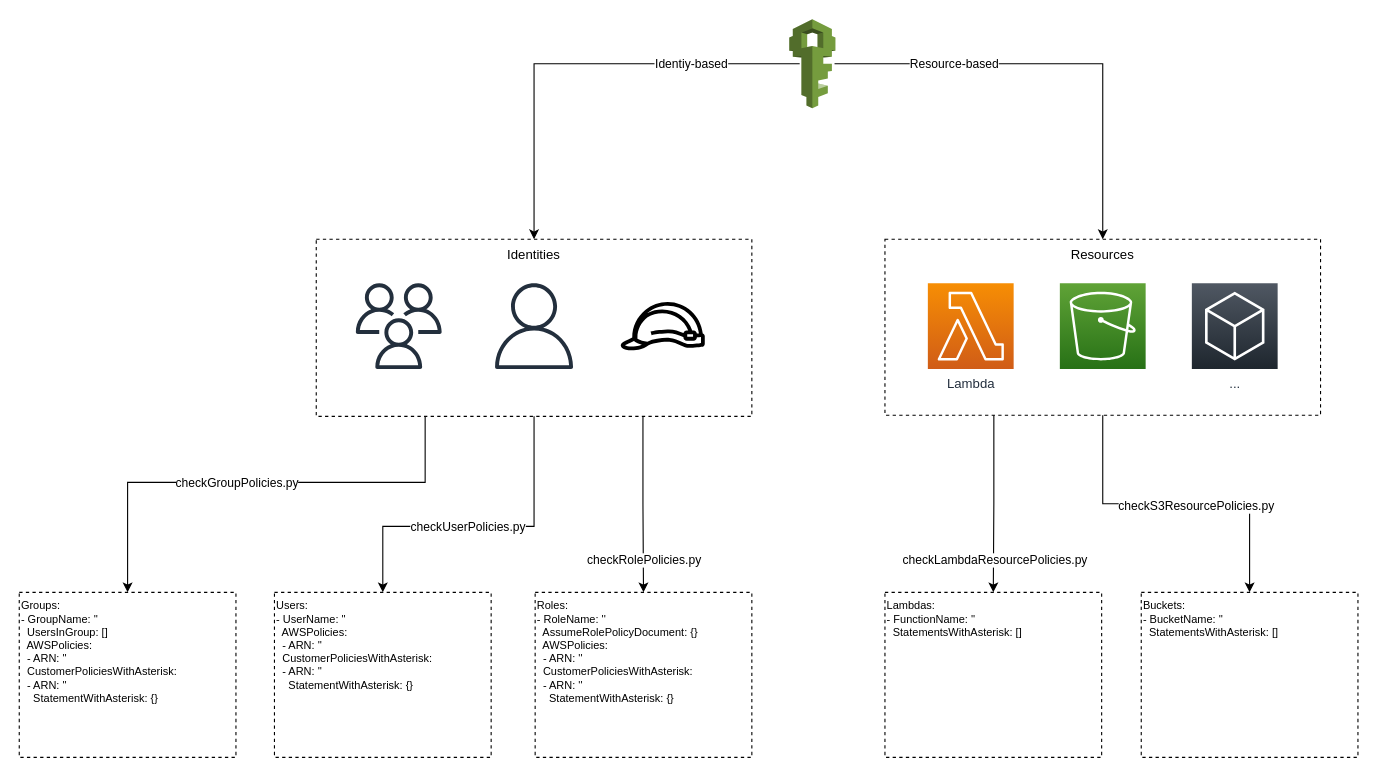
This 1377x777 diagram has some shape labels left out. The centre of each missing label's shape, as x and y in pixels:
AWS AuthZ: [811,63]
Group: [398,326]
IAM User: [533,326]
Role: [662,325]
S3: [1102,325]
